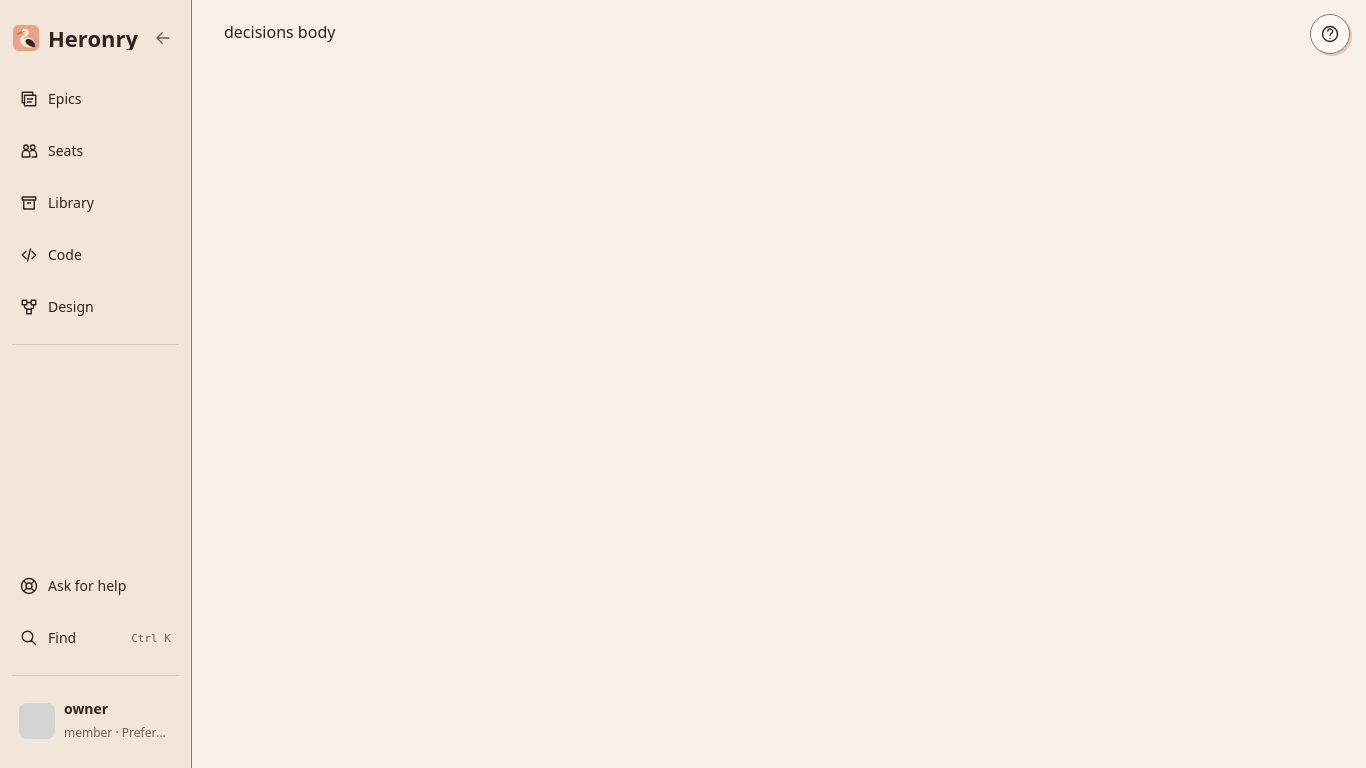
Ask for help (S19 c-190f5c6276) › t-67dad8c6aa: takes the person's words, posts them and opens the thread
This screenshot has width=1366, height=768.
Click the button with test id "ask-help". click: point(96, 586)
box: x1=12 y1=563 x2=179 y2=609
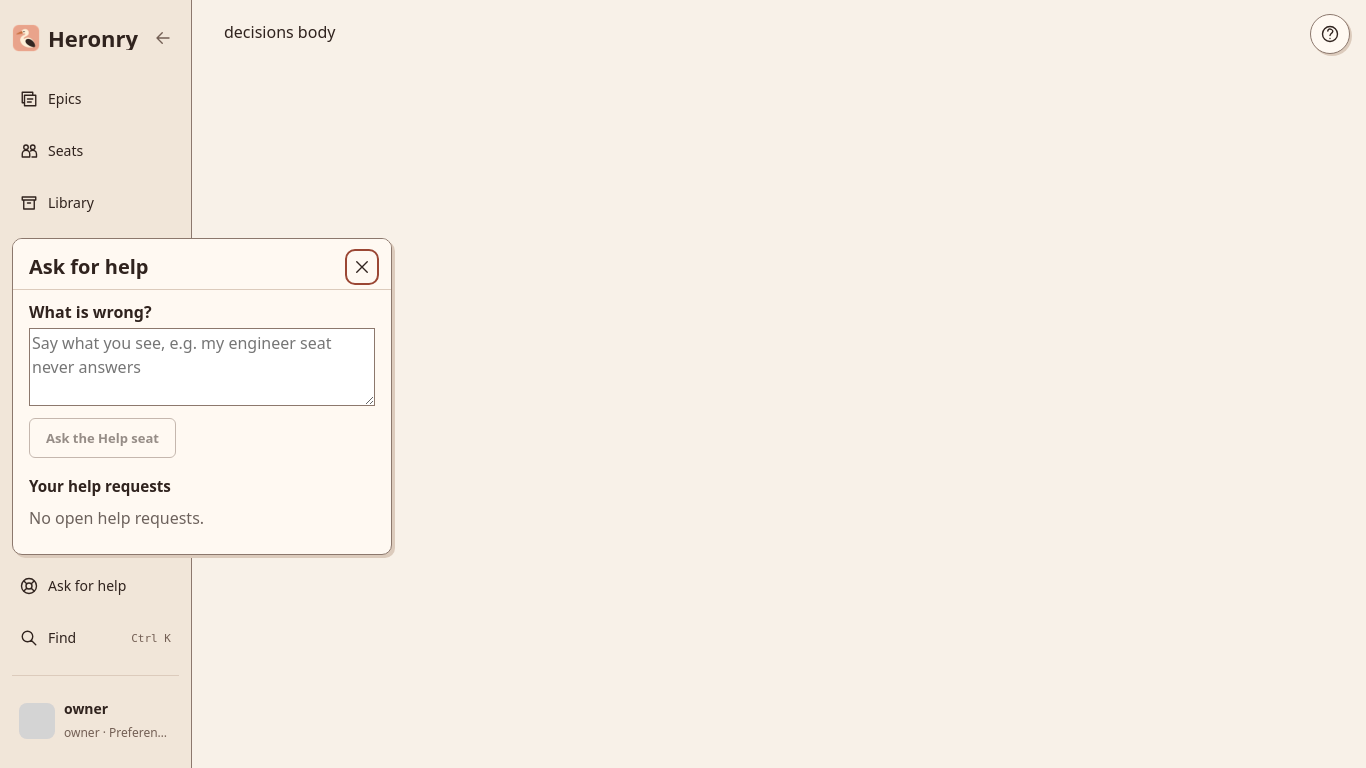
Check: the text "No open help requests." is shown, box x1=29 y1=507 x2=204 y2=529
Check: the button with test id "help-send" is disabled, box x1=29 y1=418 x2=176 y2=458
Type "  my seats die  " into the text box with test id "help-words". click: point(202, 367)
box: x1=29 y1=328 x2=375 y2=406
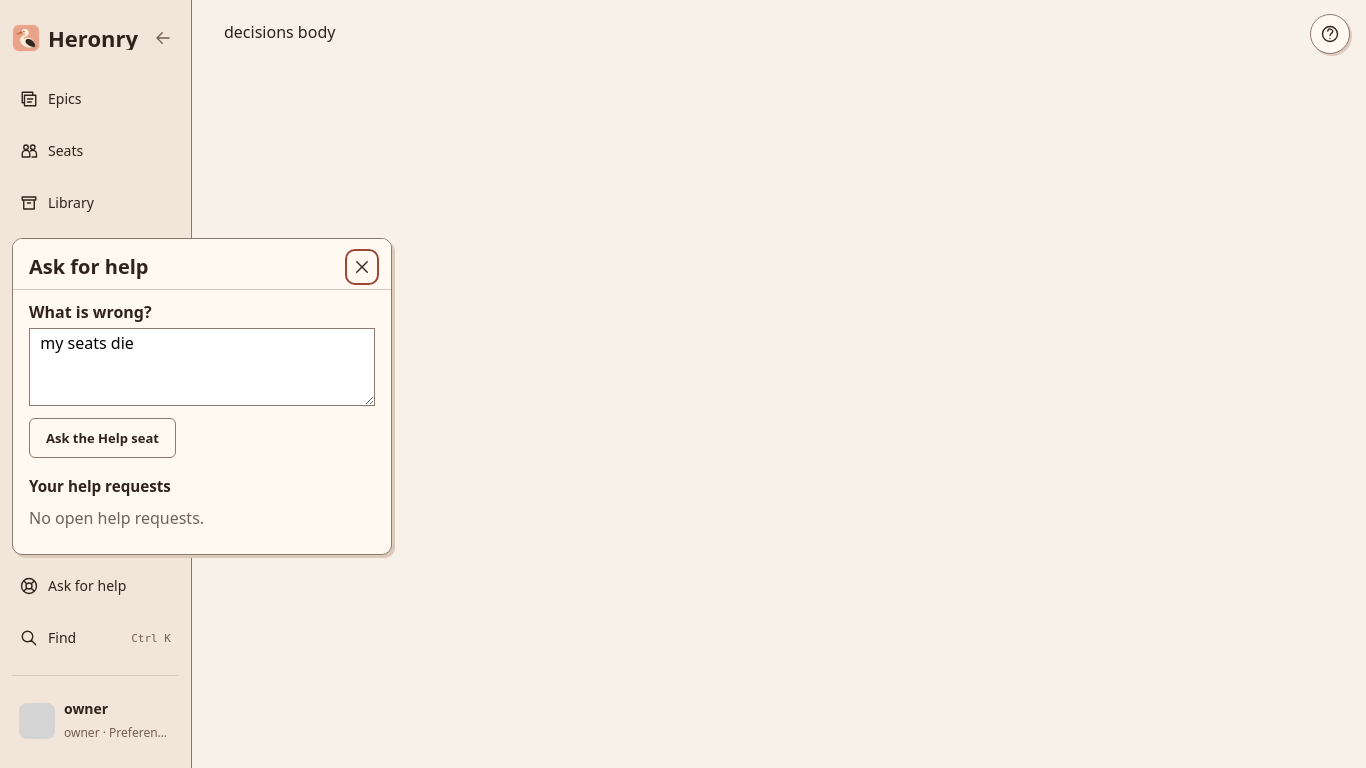
Click the button with test id "help-send". click: point(102, 438)
box: x1=29 y1=418 x2=176 y2=458
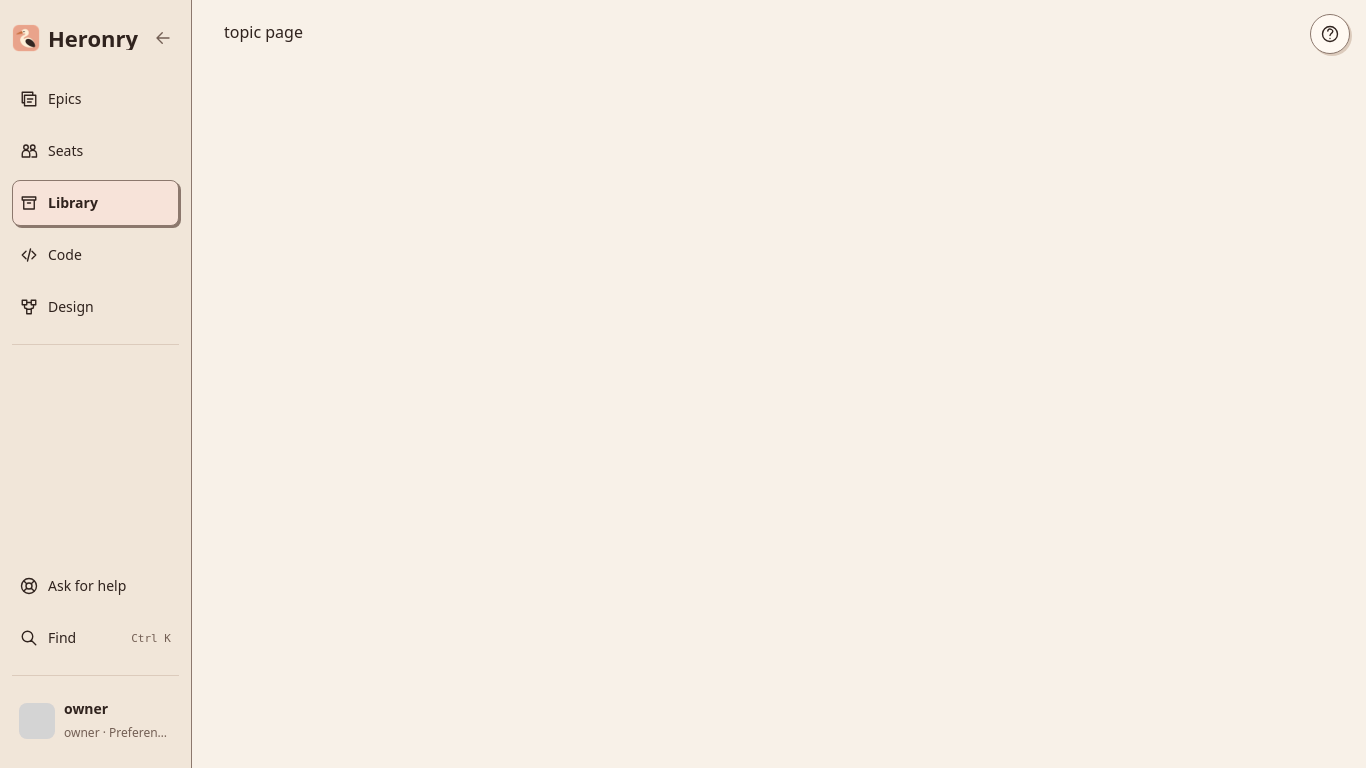
Check: the text "topic page" is shown, box x1=224 y1=21 x2=303 y2=43
